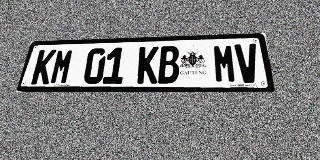0: (83, 48, 107, 84)
1: (102, 47, 126, 84)
B: (158, 46, 179, 83)
K: (30, 49, 57, 84), (137, 46, 159, 84)
M: (213, 44, 237, 83), (49, 49, 75, 84)
V: (234, 43, 261, 83)
